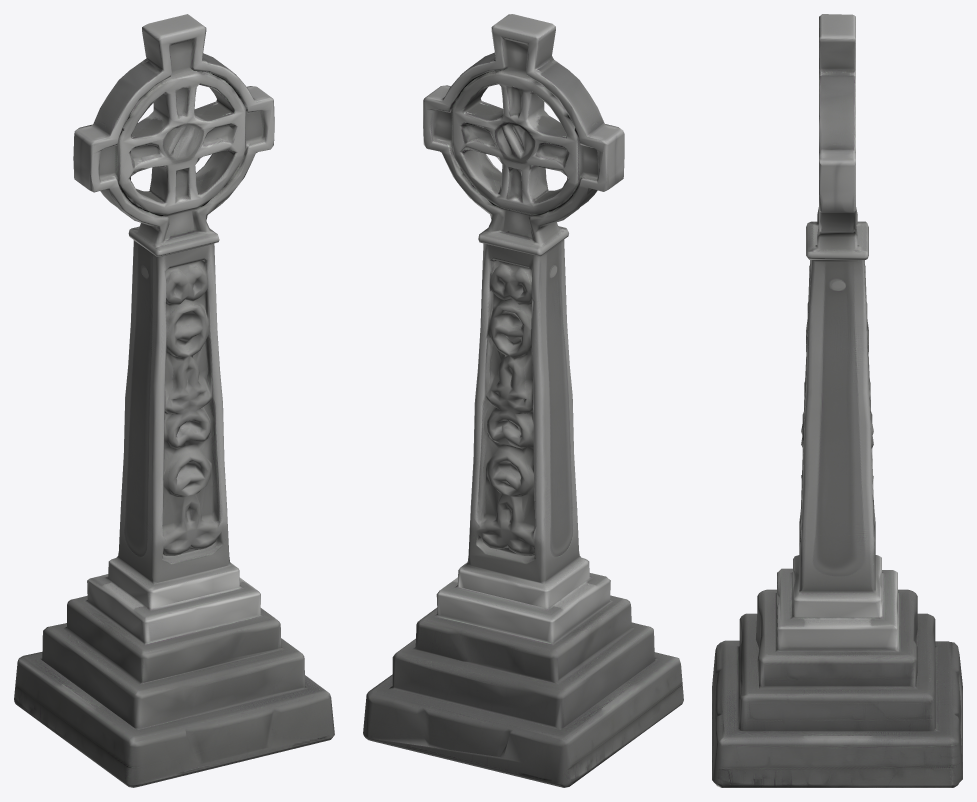
The model's file is grave_celtic_cross.glb.
3 renders of one model, left to right at view 1: azimuth 30°, elevation 25°; view 2: azimuth 150°, elevation 25°; view 3: azimuth 270°, elevation 25°, orthographic. The views are drawn at different scales.
Size of the model in its own units: 0.5988 by 1.91 by 0.6067.
1 material, 1 textured.
